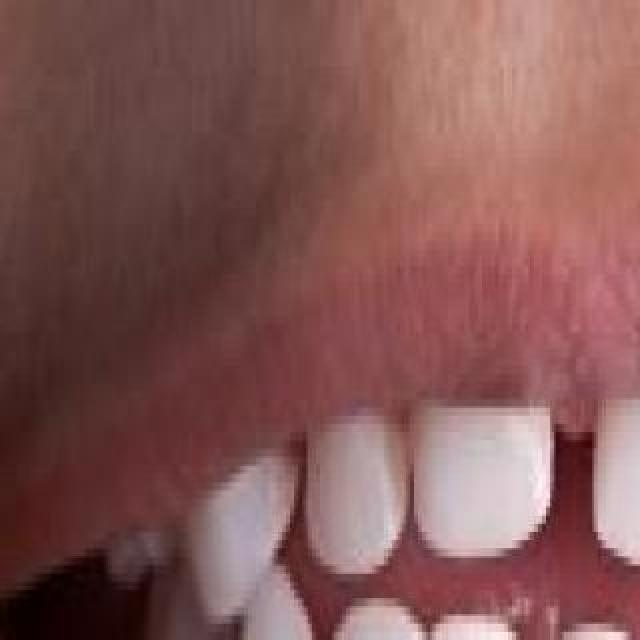spacing: (525, 410, 611, 546), (260, 448, 324, 566), (388, 428, 446, 542), (284, 614, 342, 640), (500, 624, 580, 640), (620, 626, 640, 640)
